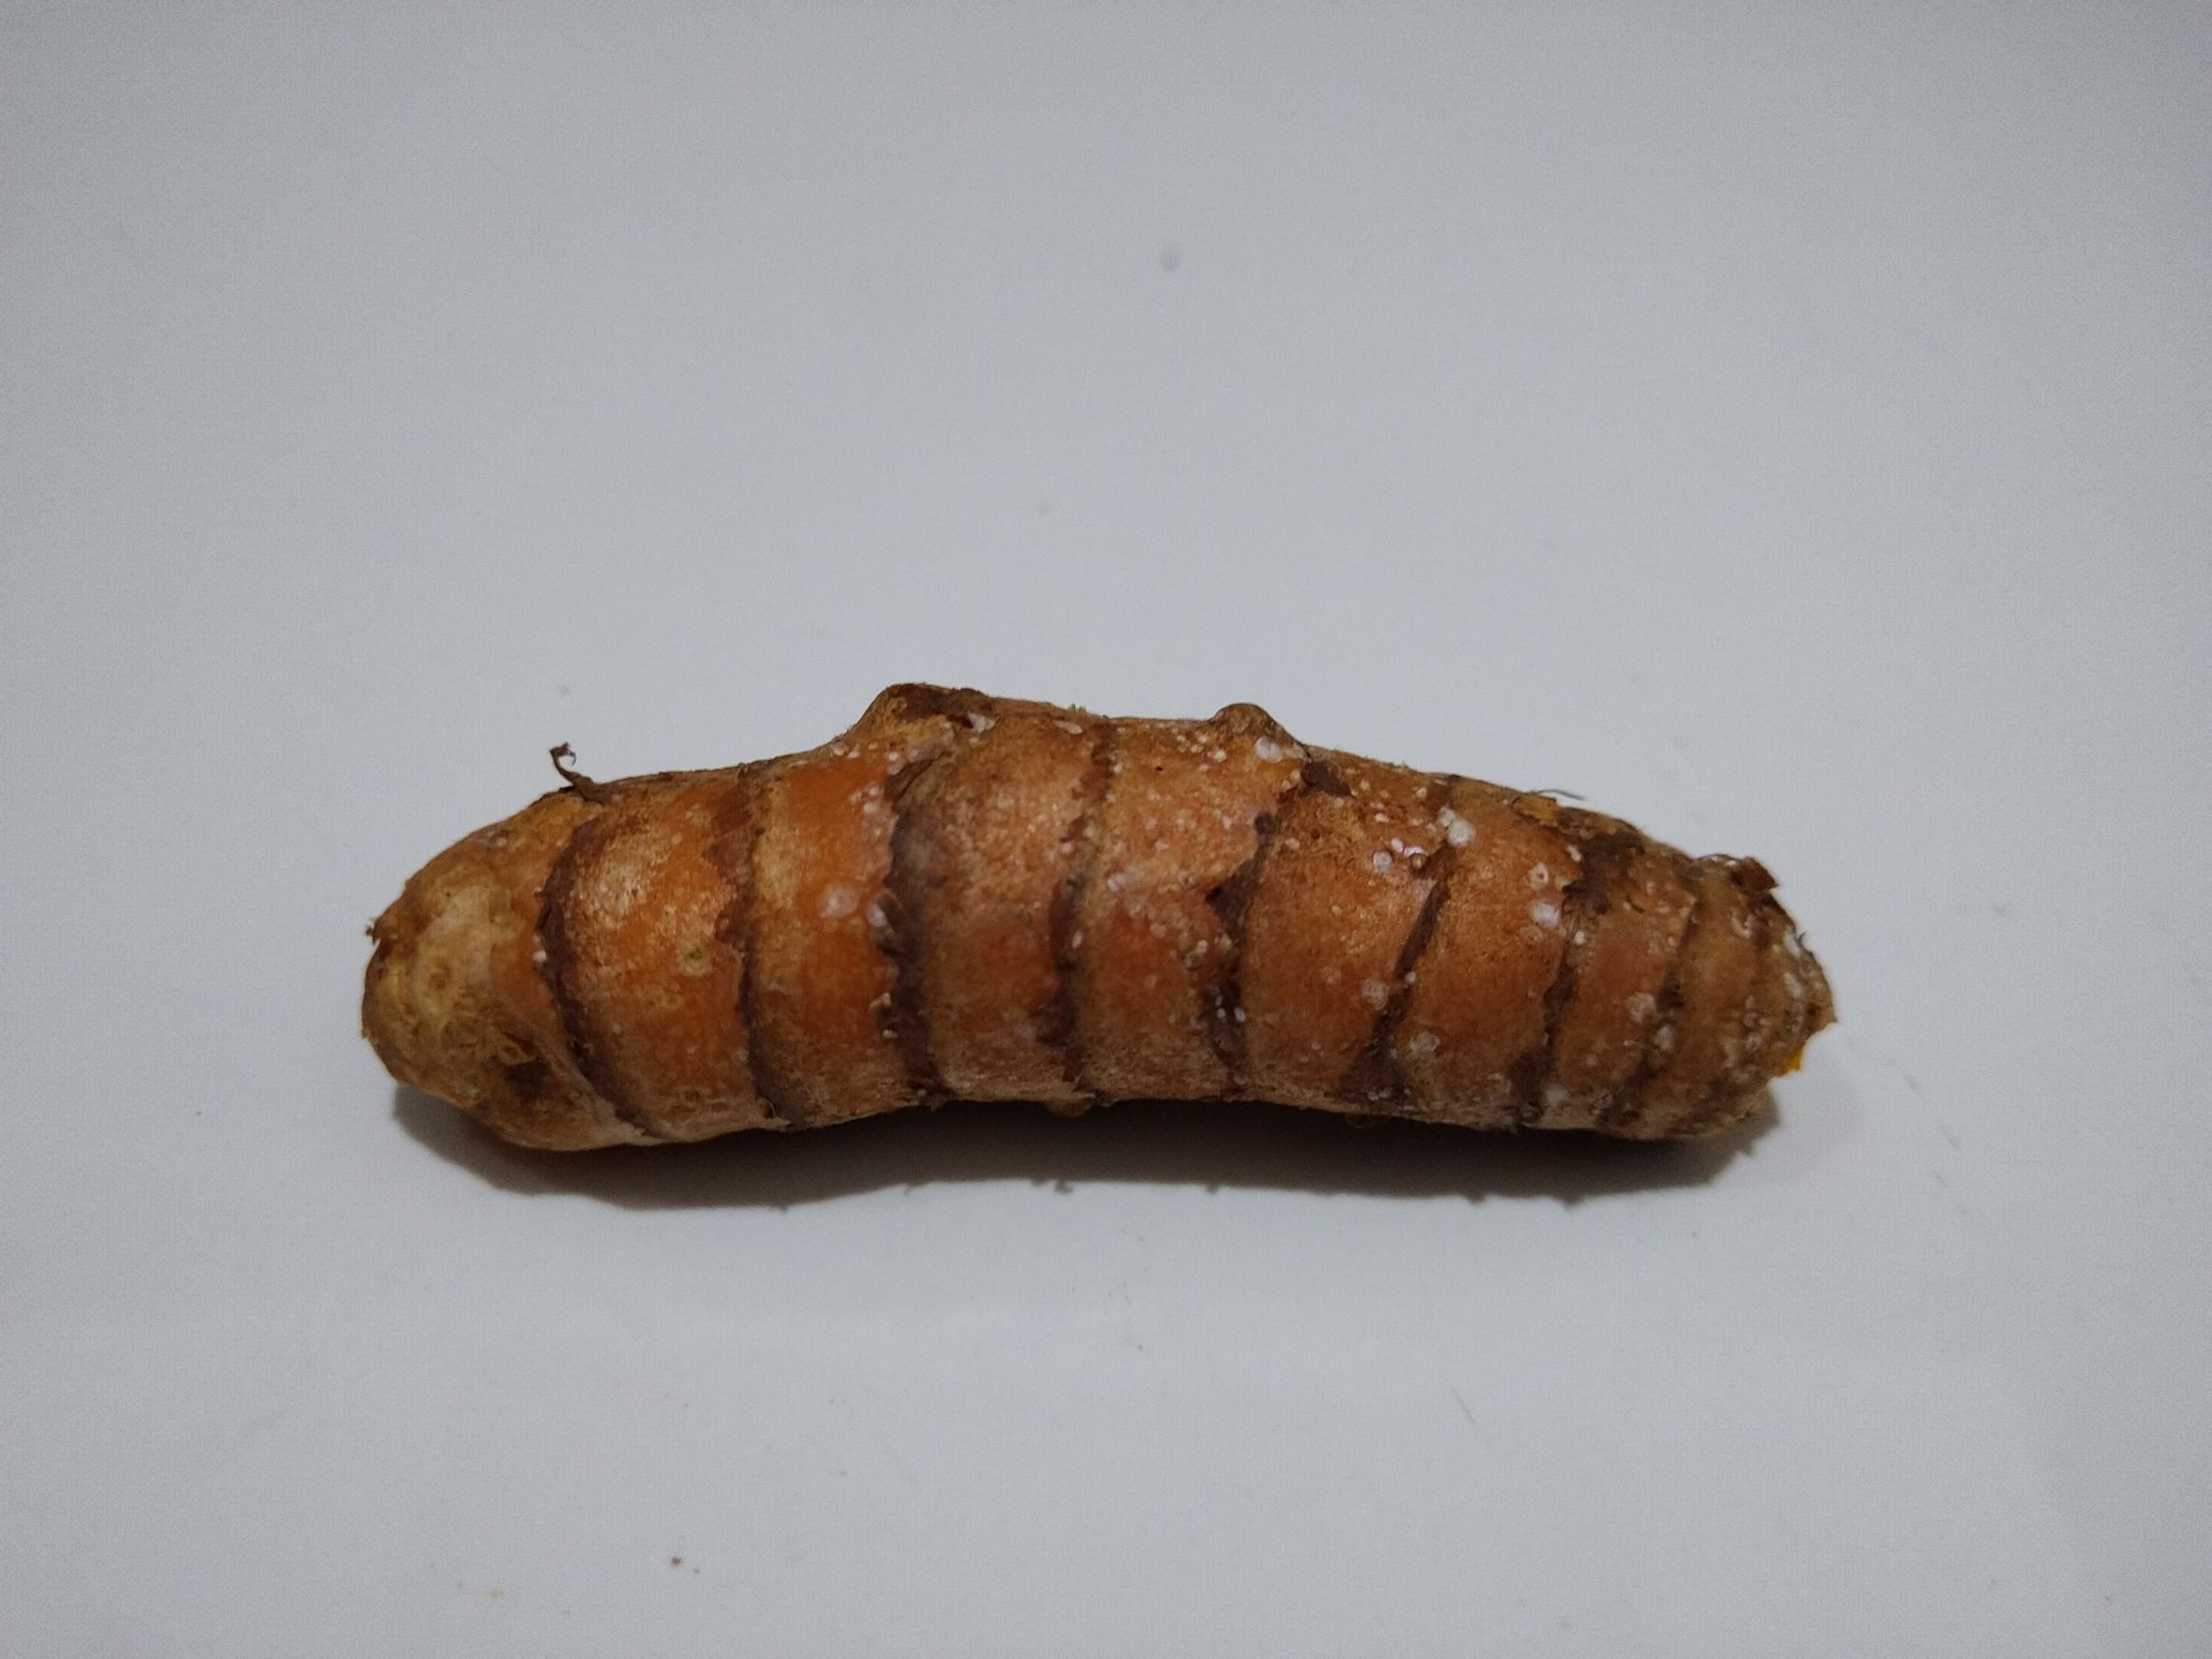Kunyit: (394, 723, 1815, 1248)
